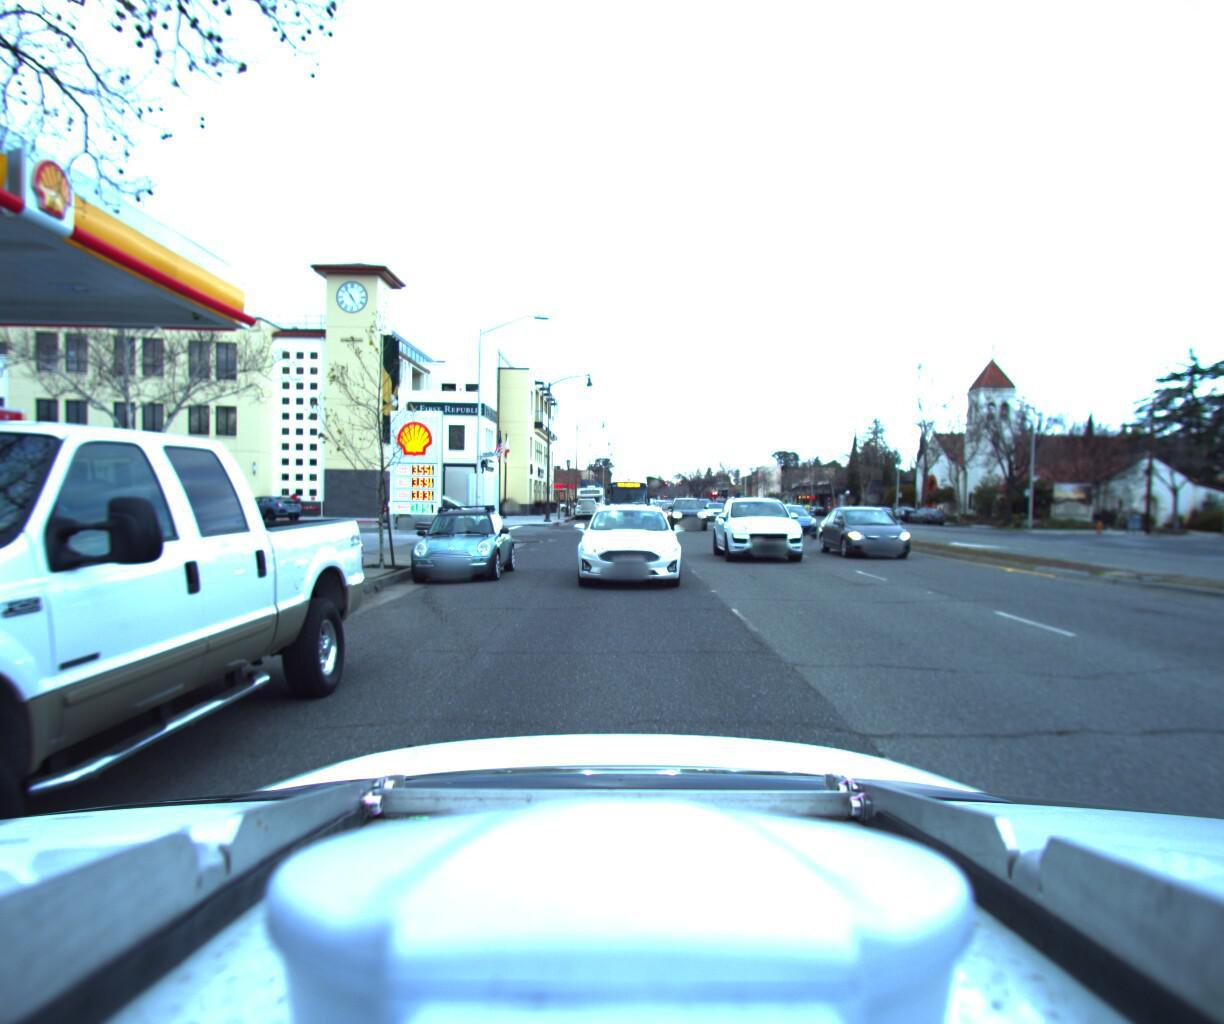bus: (601, 462, 648, 518)
car: (563, 495, 685, 591), (401, 497, 516, 582), (708, 490, 814, 573), (814, 501, 929, 563), (380, 484, 490, 524), (762, 496, 823, 535), (227, 487, 308, 515), (665, 491, 710, 525), (655, 494, 690, 519), (905, 498, 948, 518), (573, 488, 599, 513), (701, 494, 729, 515), (866, 498, 898, 514)
other_vehicle: (573, 476, 607, 511)
